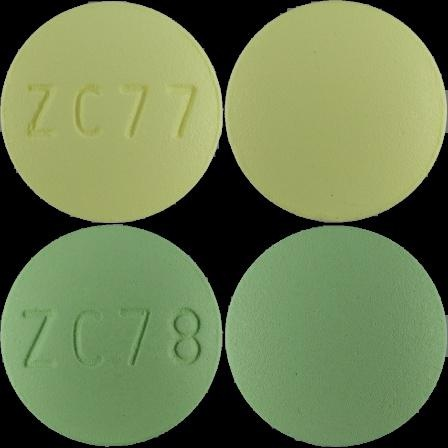67046-657: (0, 0, 224, 224)
